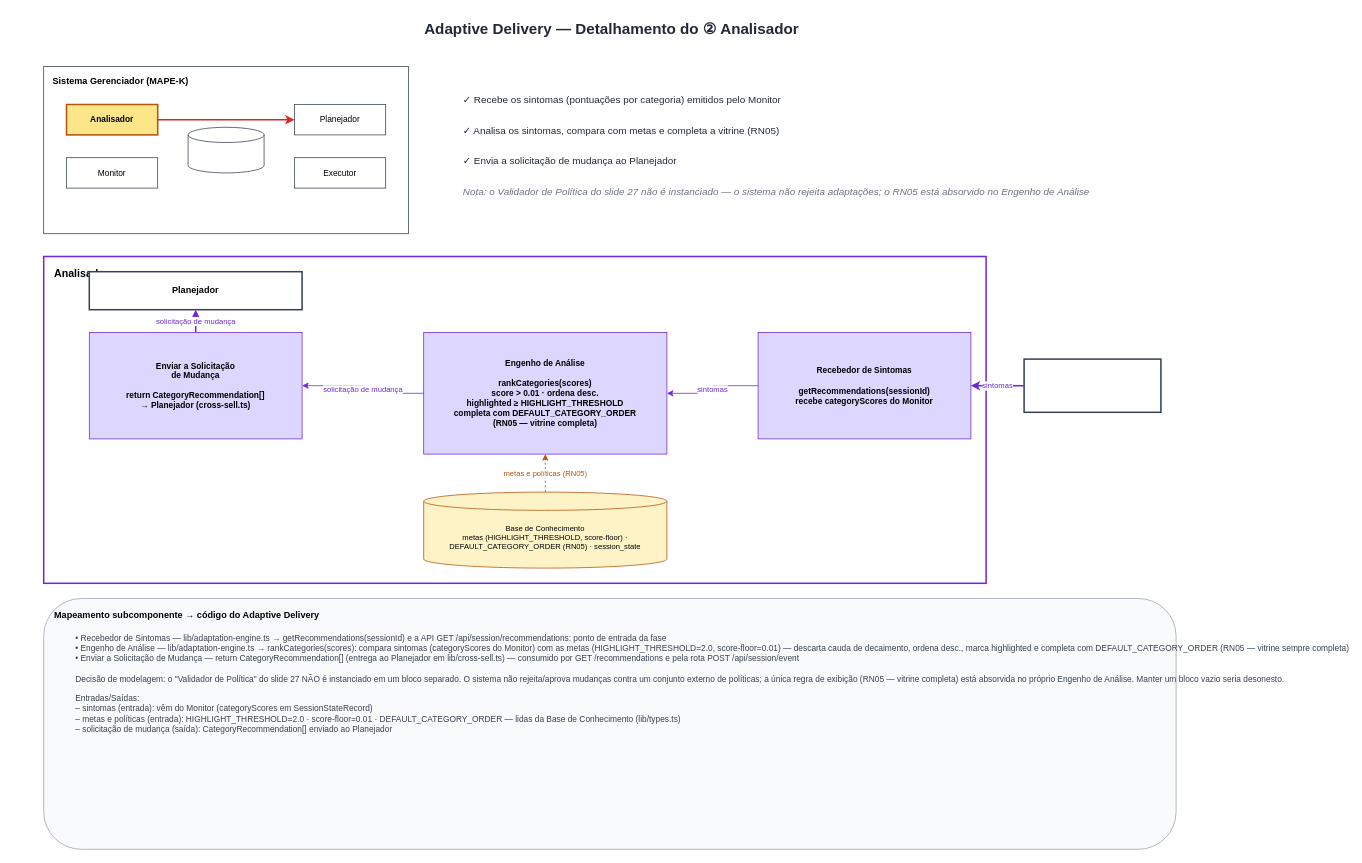
Some shapes in this 1362 by 863 pixel diagram are drawn without their labels. Here are the shapes that lost their labels. From the top down, the centre of each, then its label:
pixel 225 150: Base de Conhecimento
pixel 1092 385: Monitor (emite sintomas)
